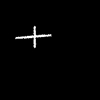single_crochet: (16, 26, 50, 47)
